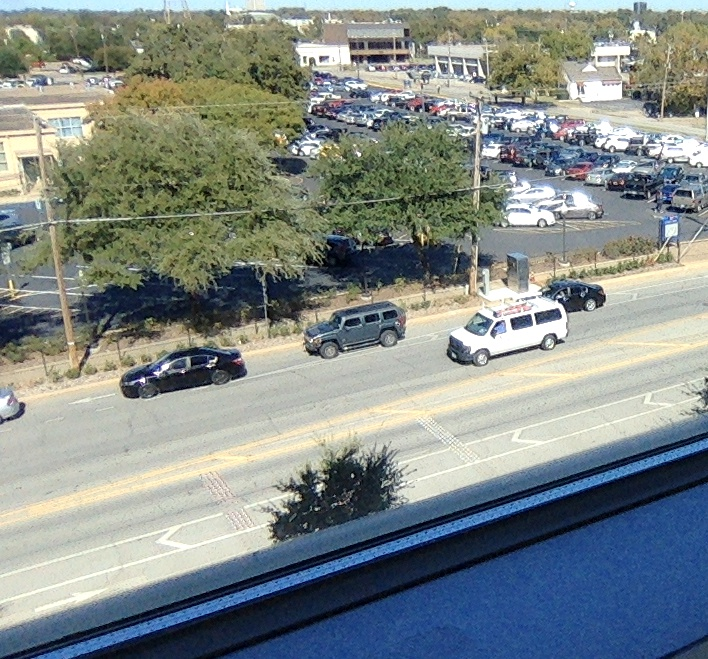car: (300, 300, 408, 359)
